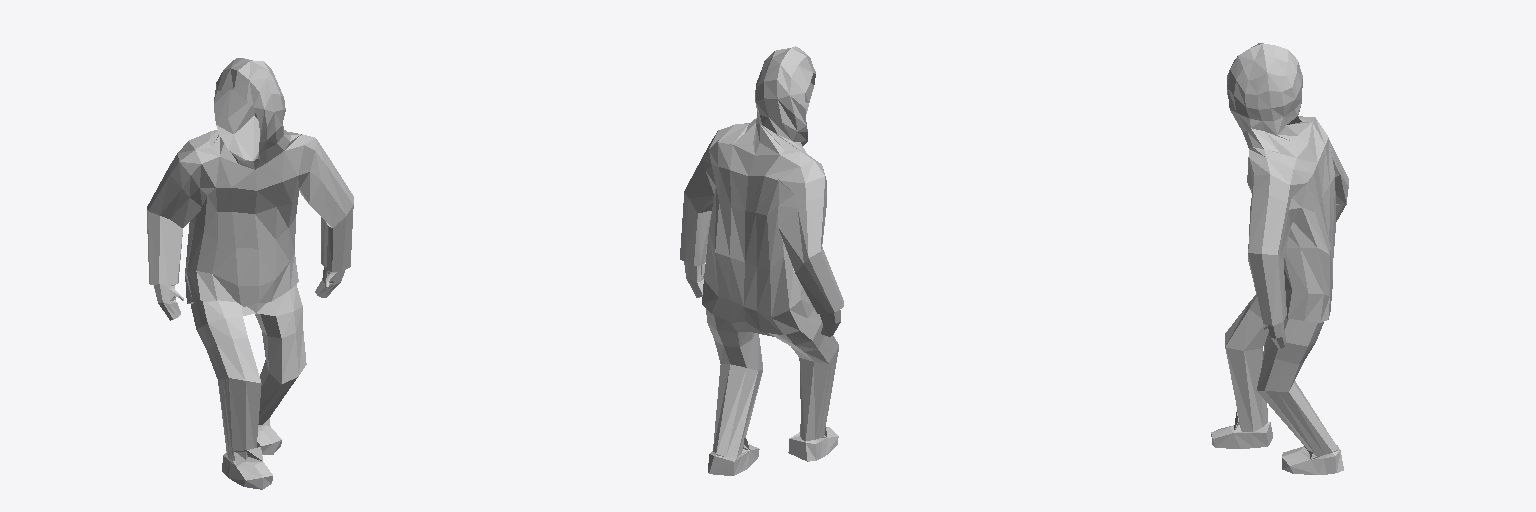
File: Shadowmanv_000021.obj
3 views of the same model, side by side, from view 1: azimuth 30°, elevation 25°; view 2: azimuth 150°, elevation 25°; view 3: azimuth 270°, elevation 25° (orthographic).
Visible parts, largest first — view 1: Cube.000; view 2: Cube.000; view 3: Cube.000.
Part boxes in pixels (x1,y1,x2,y2): Cube.000: (147, 58, 353, 489); Cube.000: (680, 46, 843, 475); Cube.000: (1211, 43, 1348, 474).
Size of the model in its own units: 5.23 by 11.28 by 3.43.